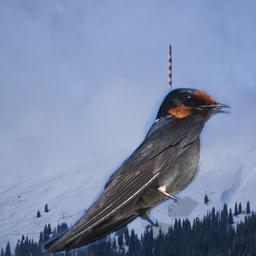Swallow: (41, 87, 231, 253)
